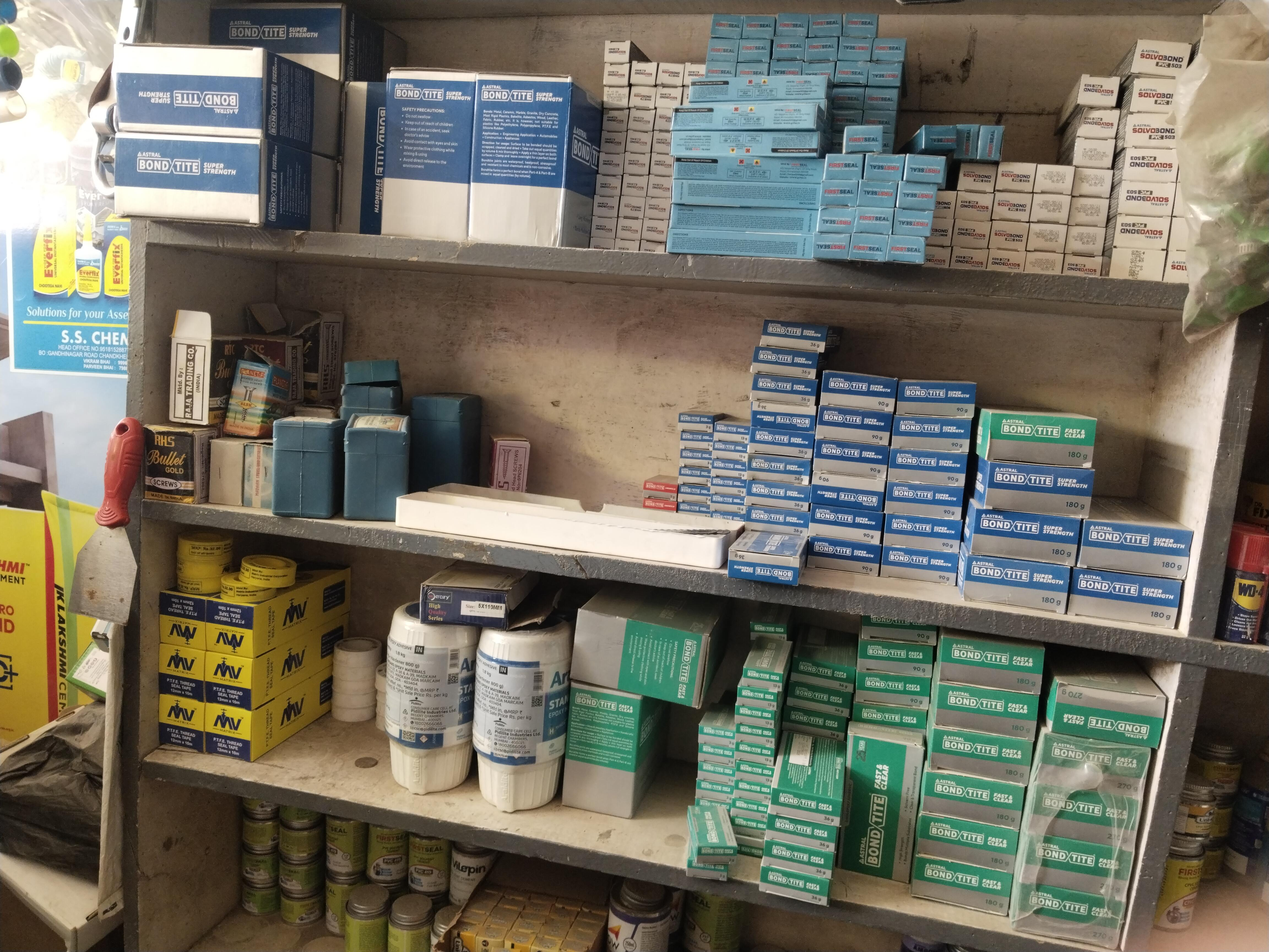BONDTITE_FAST - CLEAR: (1045, 649, 1167, 748), (1009, 865, 1126, 948), (1031, 728, 1150, 798), (1017, 832, 1132, 901), (1024, 784, 1140, 852), (769, 733, 846, 827), (976, 408, 1097, 467), (937, 629, 1045, 695), (915, 810, 1019, 873), (921, 769, 1025, 832), (931, 681, 1039, 741), (927, 725, 1033, 785), (911, 854, 1013, 915), (791, 628, 858, 691), (685, 805, 737, 880), (758, 859, 832, 905), (859, 634, 934, 678), (855, 671, 931, 710), (767, 809, 839, 849), (739, 638, 791, 692), (787, 679, 853, 718), (851, 700, 928, 732), (781, 705, 848, 740), (762, 840, 832, 872), (698, 705, 735, 747), (736, 708, 779, 739), (730, 794, 769, 828), (735, 698, 780, 723), (736, 736, 776, 763), (734, 775, 771, 802), (736, 759, 774, 785), (695, 778, 733, 804), (698, 742, 734, 765), (699, 761, 734, 777)
BONDTITE_SUPER STRENGTH: (1076, 497, 1193, 580), (962, 497, 1082, 567), (958, 547, 1070, 613), (974, 458, 1095, 518), (1068, 567, 1183, 628), (728, 530, 807, 585), (888, 446, 969, 487), (820, 370, 897, 412), (880, 545, 958, 586), (815, 405, 893, 446), (813, 438, 888, 480), (884, 514, 962, 554), (891, 415, 973, 453), (810, 503, 883, 544), (884, 482, 964, 519), (807, 536, 882, 575), (897, 380, 976, 417), (812, 472, 885, 512), (759, 320, 842, 353), (750, 345, 825, 379), (750, 374, 818, 407), (749, 425, 814, 458), (744, 480, 811, 512), (750, 402, 817, 434), (745, 454, 811, 486), (744, 506, 810, 536), (713, 417, 751, 450), (677, 412, 724, 432), (712, 439, 749, 462), (678, 477, 711, 501), (679, 431, 713, 454), (679, 446, 712, 469), (711, 458, 747, 479), (711, 476, 747, 497), (710, 495, 747, 514), (678, 498, 711, 516), (679, 466, 709, 485), (712, 511, 745, 522)
